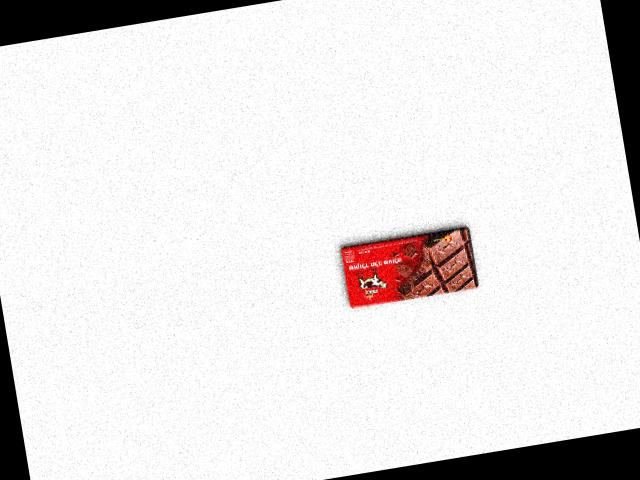chocolate: (335, 221, 481, 312)
